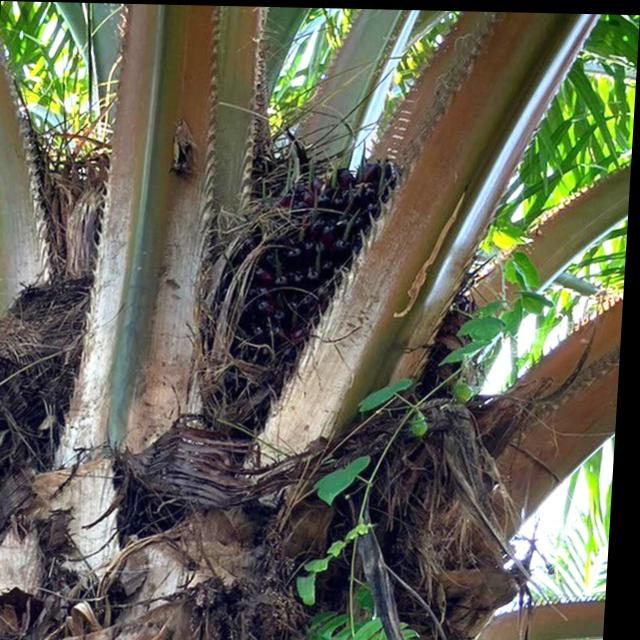almost: (179, 129, 405, 429)
